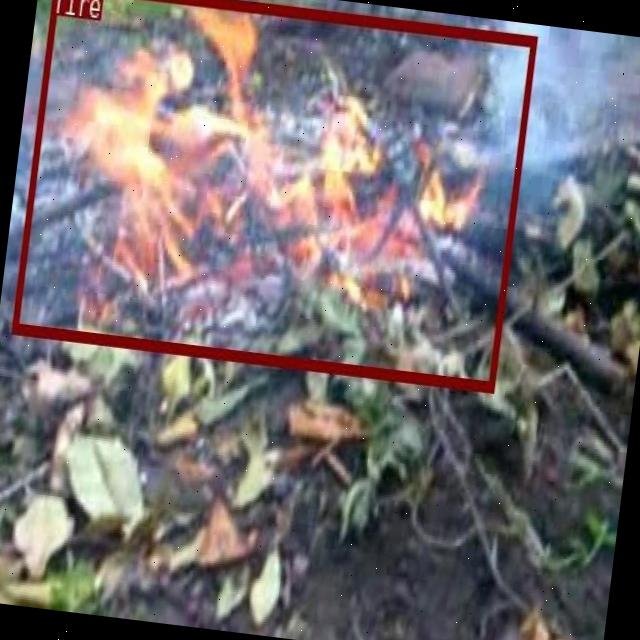fire: (10, 0, 536, 391)
